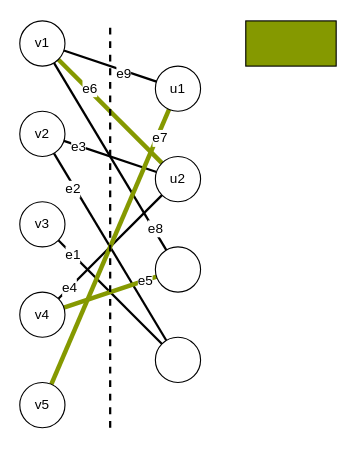
This 356x449 diagram has some shape labels left out. Each missing label, with the centre of its shape:
"Matched" belongs at point (290, 43).
"u3" belongs at point (177, 269).
"u4" belongs at point (177, 359).
